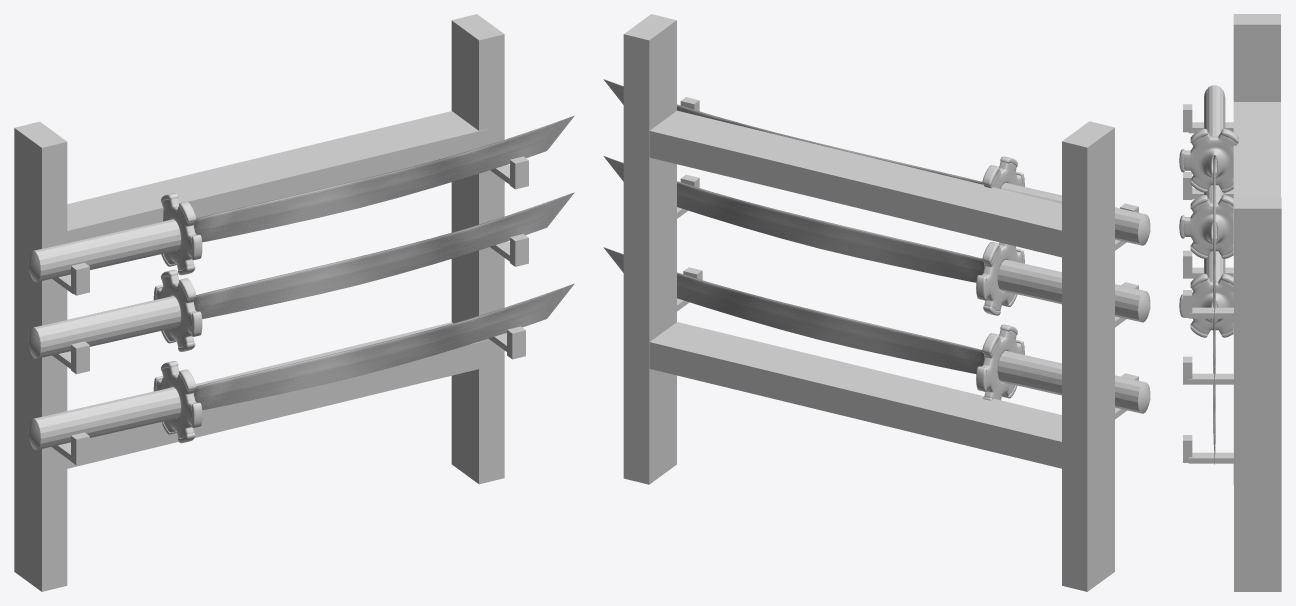
The model's file is shelve.fbx.
The picture shows the model from 3 angles, left to right: view 1: azimuth 30°, elevation 25°; view 2: azimuth 150°, elevation 25°; view 3: azimuth 270°, elevation 25°; orthographic projection. The views are drawn at different scales.
Visible parts, largest first — view 1: Box001, Box002, Box003, Box004, Plane003, Plane002, Plane001, Object006, Object009, Object003, Cylinder002, Cylinder003 (+1 smaller); view 2: Box001, Box002, Box004, Box003, Plane002, Plane003, Object009, Object006, Cylinder003, Cylinder002, Object003, Plane001 (+1 smaller); view 3: Box002, Box003, Box001, Cylinder001, Cylinder002, Cylinder003, Object003, Box007, Box009, Box010, Object009, Plane001 (+12 smaller).
Boxes of the visible parts, x1,y1,x2,y2 form: Box001: [14, 121, 67, 591]; Box002: [451, 14, 504, 484]; Box003: [64, 111, 488, 243]; Box004: [64, 322, 488, 469]; Plane003: [194, 283, 574, 409]; Plane002: [194, 192, 574, 318]; Plane001: [194, 115, 574, 242]; Object006: [28, 296, 180, 358]; Object009: [28, 387, 180, 450]; Object003: [28, 219, 180, 282]; Cylinder002: [153, 269, 202, 351]; Cylinder003: [153, 361, 202, 443]; Box001: [1062, 121, 1114, 591]; Box002: [623, 14, 676, 484]; Box004: [649, 322, 1064, 469]; Box003: [649, 110, 1064, 257]; Plane002: [603, 156, 984, 282]; Plane003: [603, 247, 984, 373]; Object009: [997, 350, 1150, 413]; Object006: [997, 259, 1150, 322]; Cylinder003: [976, 324, 1024, 400]; Cylinder002: [976, 242, 1024, 315]; Object003: [1000, 182, 1150, 245]; Plane001: [603, 79, 982, 184]; Box002: [1234, 197, 1281, 591]; Box003: [1233, 102, 1280, 302]; Box001: [1233, 14, 1280, 101]; Cylinder001: [1179, 128, 1238, 192]; Cylinder002: [1179, 195, 1233, 258]; Cylinder003: [1179, 273, 1233, 337]; Object003: [1204, 85, 1225, 172]; Box007: [1188, 452, 1233, 463]; Box009: [1188, 307, 1233, 318]; Box010: [1188, 373, 1233, 384]; Object009: [1204, 251, 1225, 307]; Plane001: [1213, 155, 1215, 319].
Size of the model in its own units: 957 by 744 by 180.
1 material, 1 textured.
